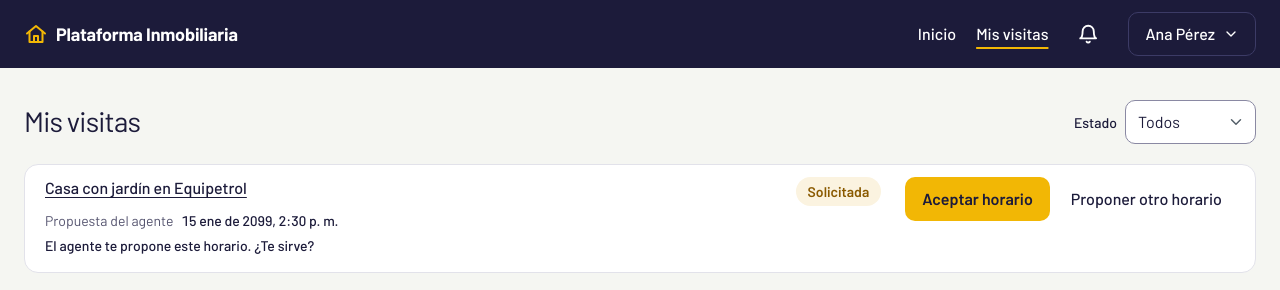
MyVisitsPage › accepts the time the agent proposed
The image size is (1280, 290).
Expected: the text "Propuesta del agente" is shown, left=45, top=210, right=173, bottom=231
Expected: the text "El agente te propone este horario. ¿Te sirve?" is shown, left=45, top=237, right=314, bottom=254
Click the button "Aceptar horario" at (978, 199), box left=905, top=177, right=1050, bottom=221
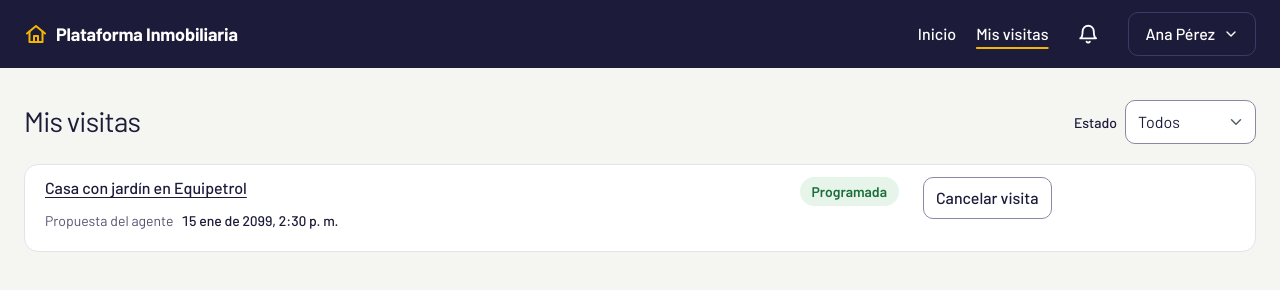
Expected: the text "Programada" is shown, left=800, top=177, right=899, bottom=206
